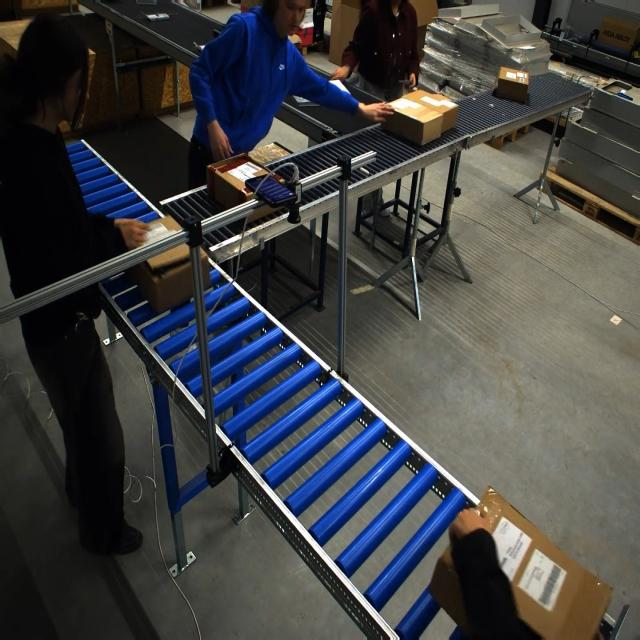box: (428, 485, 616, 640), (126, 218, 215, 311), (207, 147, 293, 221), (410, 75, 468, 135), (379, 97, 440, 146), (499, 61, 532, 97)
product: (292, 94, 316, 105), (144, 12, 170, 21)
